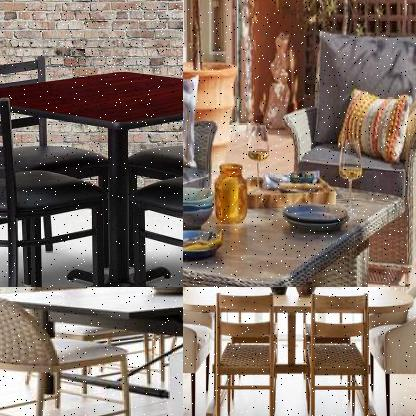table: (0, 68, 182, 286), (183, 287, 415, 415), (183, 177, 410, 286), (0, 287, 182, 415)
